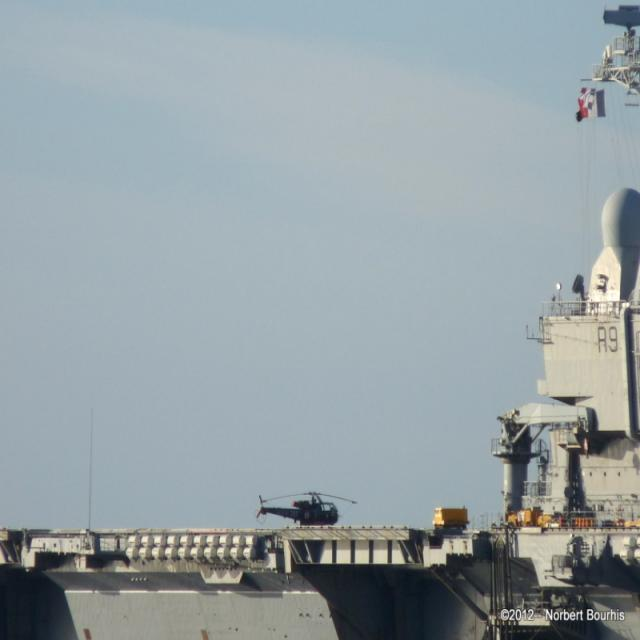Portanaves: (2, 112, 638, 605)
